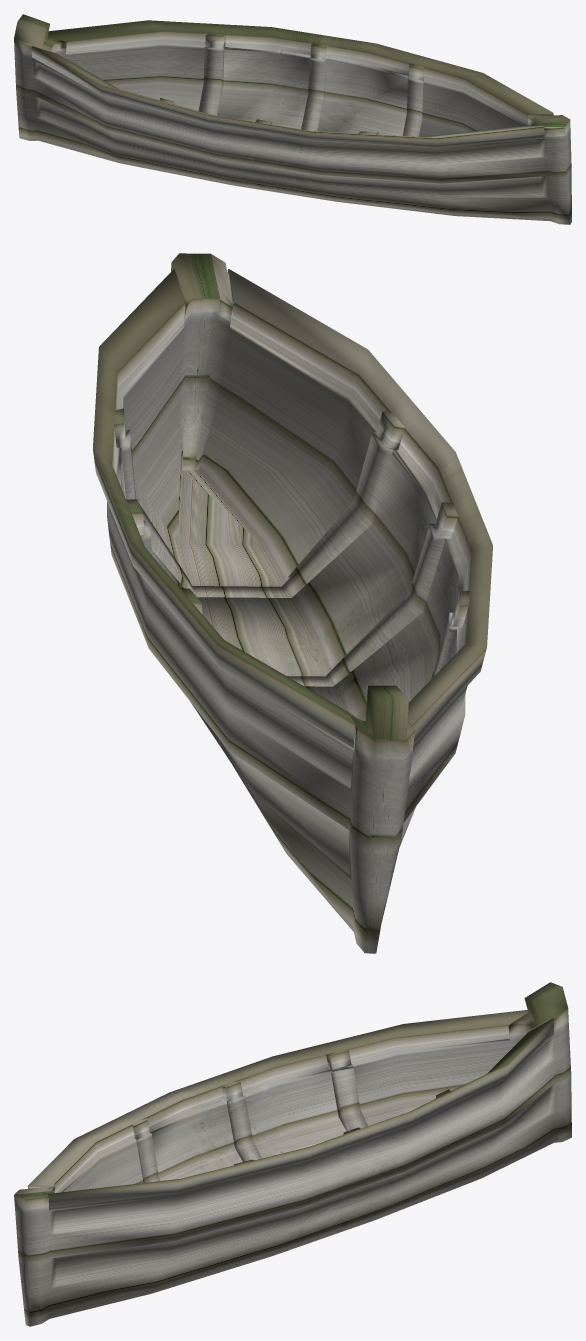
Rendered from cube.082_lev3.glb.
3 renders of one model, top to bottom at view 1: azimuth 30°, elevation 25°; view 2: azimuth 150°, elevation 25°; view 3: azimuth 270°, elevation 25°, orthographic. The views are drawn at different scales.
Parts seen in each view (by area): view 1: cube.082_lev3; view 2: cube.082_lev3; view 3: cube.082_lev3.
Boxes of the visible parts, box(x1,y1,x2,y2) form: cube.082_lev3: box(14, 14, 571, 224); cube.082_lev3: box(93, 253, 492, 953); cube.082_lev3: box(14, 982, 571, 1326).
Bounding box in the file's own units: 1.43 × 0.5069 × 1.7.
1 material, 1 textured.
